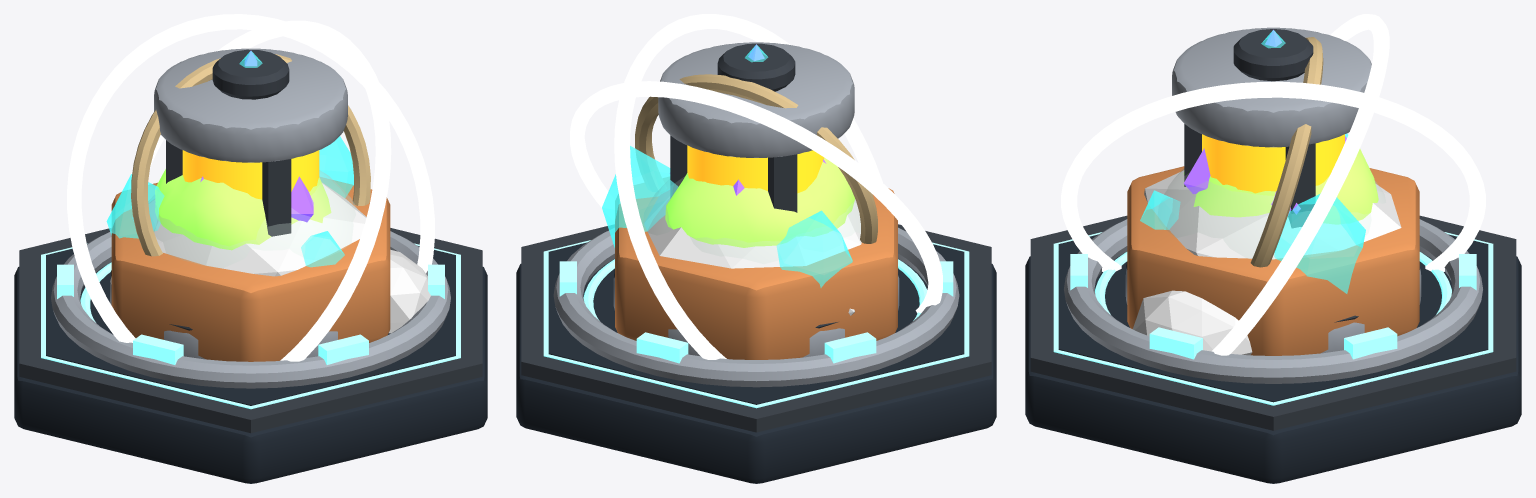
Rendered from sb_match3_kit.glb.
3 renders of one model, left to right at view 1: azimuth 30°, elevation 25°; view 2: azimuth 150°, elevation 25°; view 3: azimuth 270°, elevation 25°, orthographic. The views are drawn at different scales.
Parts seen in each view (by area): view 1: SB_MATCH3_CELL_HEX.001, SB_MATCH3_TILE_METAL.001, SB_MATCH3_TILE_ENERGY.001, SB_MATCH3_TILE_CORE.001, SB_MATCH3_TILE_CHARGE.001, SB_MATCH3_TILE_BIOMASS.001, SB_MATCH3_TILE_ROCK.001, SB_MATCH3_TILE_ARTIFACT.001, SB_MATCH3_TILE_CRYSTAL.001, SB_MATCH3_TILE_ROCK_CRACKED.001; view 2: SB_MATCH3_CELL_HEX.001, SB_MATCH3_TILE_METAL.001, SB_MATCH3_TILE_ENERGY.001, SB_MATCH3_TILE_CORE.001, SB_MATCH3_TILE_CHARGE.001, SB_MATCH3_TILE_BIOMASS.001, SB_MATCH3_TILE_CRYSTAL.001, SB_MATCH3_TILE_ARTIFACT.001, SB_MATCH3_TILE_ROCK.001, SB_MATCH3_TILE_ROCK_CRACKED.001; view 3: SB_MATCH3_CELL_HEX.001, SB_MATCH3_TILE_METAL.001, SB_MATCH3_TILE_ENERGY.001, SB_MATCH3_TILE_CORE.001, SB_MATCH3_TILE_CHARGE.001, SB_MATCH3_TILE_ROCK.001, SB_MATCH3_TILE_BIOMASS.001, SB_MATCH3_TILE_CRYSTAL.001, SB_MATCH3_TILE_ARTIFACT.001, SB_MATCH3_TILE_ROCK_CRACKED.001.
Part boxes in pixels (x1,y1,x2,y2): SB_MATCH3_CELL_HEX.001: (14, 228, 487, 483); SB_MATCH3_TILE_METAL.001: (111, 177, 390, 361); SB_MATCH3_TILE_ENERGY.001: (154, 48, 347, 236); SB_MATCH3_TILE_CORE.001: (67, 14, 434, 361); SB_MATCH3_TILE_CHARGE.001: (51, 231, 450, 388); SB_MATCH3_TILE_BIOMASS.001: (110, 169, 357, 359); SB_MATCH3_TILE_ROCK.001: (110, 182, 430, 333); SB_MATCH3_TILE_ARTIFACT.001: (131, 50, 370, 256); SB_MATCH3_TILE_CRYSTAL.001: (106, 51, 353, 267); SB_MATCH3_TILE_ROCK_CRACKED.001: (110, 183, 430, 332); SB_MATCH3_CELL_HEX.001: (516, 224, 996, 483); SB_MATCH3_TILE_METAL.001: (615, 177, 897, 359); SB_MATCH3_TILE_ENERGY.001: (658, 42, 854, 212); SB_MATCH3_TILE_CORE.001: (570, 14, 942, 359); SB_MATCH3_TILE_CHARGE.001: (553, 227, 959, 387); SB_MATCH3_TILE_BIOMASS.001: (613, 158, 899, 357); SB_MATCH3_TILE_CRYSTAL.001: (602, 44, 852, 287); SB_MATCH3_TILE_ARTIFACT.001: (635, 44, 877, 243); SB_MATCH3_TILE_ROCK.001: (644, 190, 861, 315); SB_MATCH3_TILE_ROCK_CRACKED.001: (645, 197, 860, 314); SB_MATCH3_CELL_HEX.001: (1025, 215, 1521, 483); SB_MATCH3_TILE_METAL.001: (1127, 166, 1419, 355); SB_MATCH3_TILE_ENERGY.001: (1172, 27, 1371, 227); SB_MATCH3_TILE_CORE.001: (1061, 14, 1485, 355); SB_MATCH3_TILE_CHARGE.001: (1064, 219, 1482, 383); SB_MATCH3_TILE_ROCK.001: (1133, 170, 1401, 355); SB_MATCH3_TILE_BIOMASS.001: (1125, 149, 1421, 353); SB_MATCH3_TILE_CRYSTAL.001: (1140, 30, 1365, 293); SB_MATCH3_TILE_ARTIFACT.001: (1183, 29, 1346, 267); SB_MATCH3_TILE_ROCK_CRACKED.001: (1135, 170, 1400, 354).
Size of the model in its own units: 1.11 by 0.7305 by 0.97.
